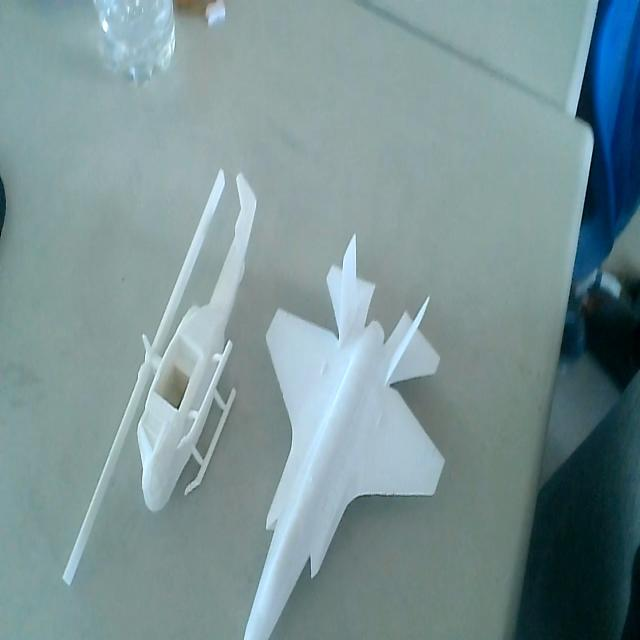Helicopter: (69, 167, 259, 554)
Jet: (236, 233, 448, 640)
